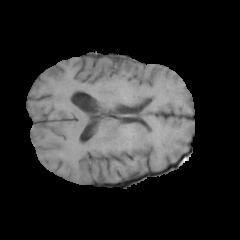glioma: (62, 60, 157, 123)
